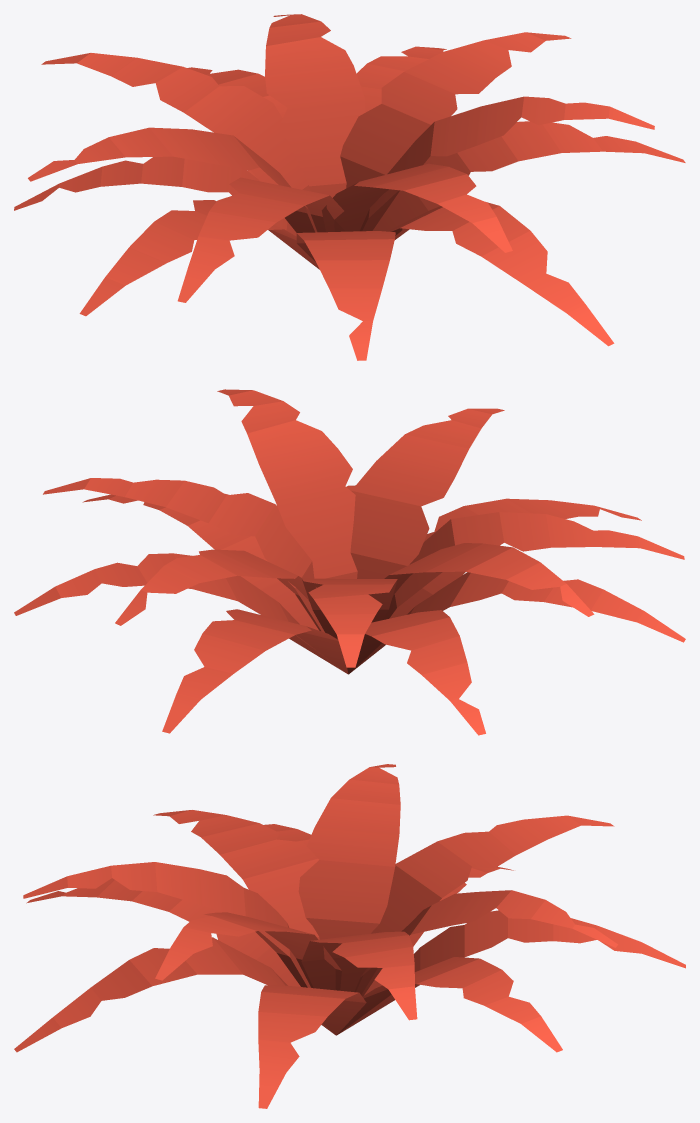
The model's file is RedDoubleFern.fbx.
3 renders of one model, top to bottom at view 1: azimuth 30°, elevation 25°; view 2: azimuth 150°, elevation 25°; view 3: azimuth 270°, elevation 25°, orthographic. The views are drawn at different scales.
Parts seen in each view (by area): view 1: RedDoubleFern; view 2: RedDoubleFern; view 3: RedDoubleFern.
Boxes of the visible parts, x1=… form: RedDoubleFern: x1=14, y1=14, x2=685, y2=360; RedDoubleFern: x1=14, y1=389, x2=685, y2=735; RedDoubleFern: x1=14, y1=764, x2=685, y2=1108.
Size of the model in its own units: 433 by 127 by 434.
